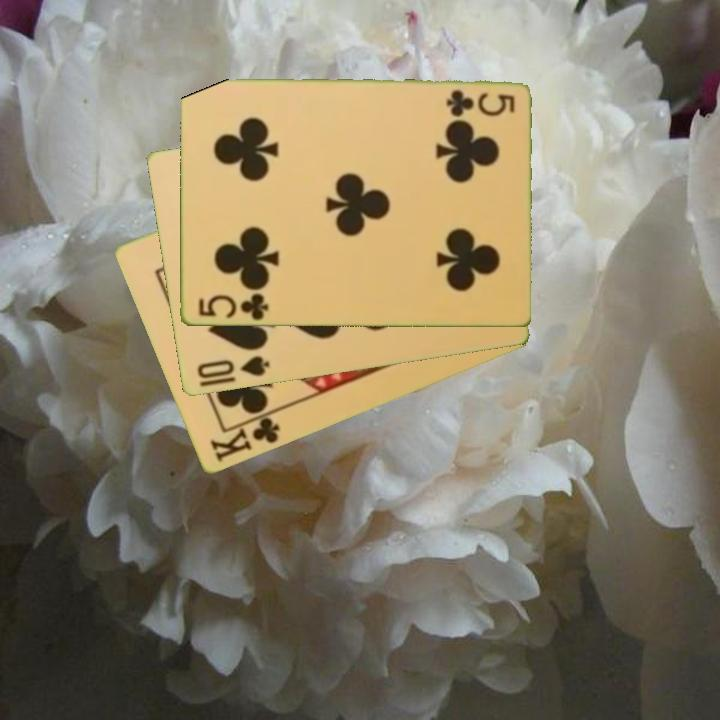10s: (193, 352, 273, 382)
5c: (194, 290, 270, 323), (442, 87, 517, 118)
Kc: (206, 408, 283, 466)
